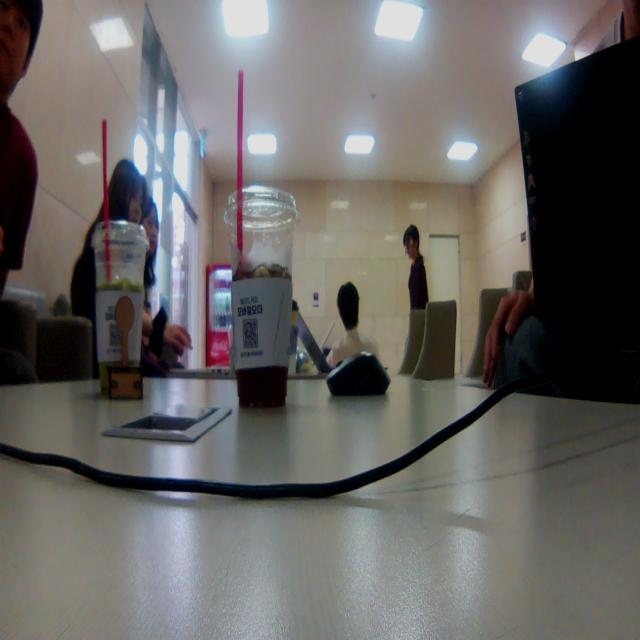target: (107, 295, 146, 401)
